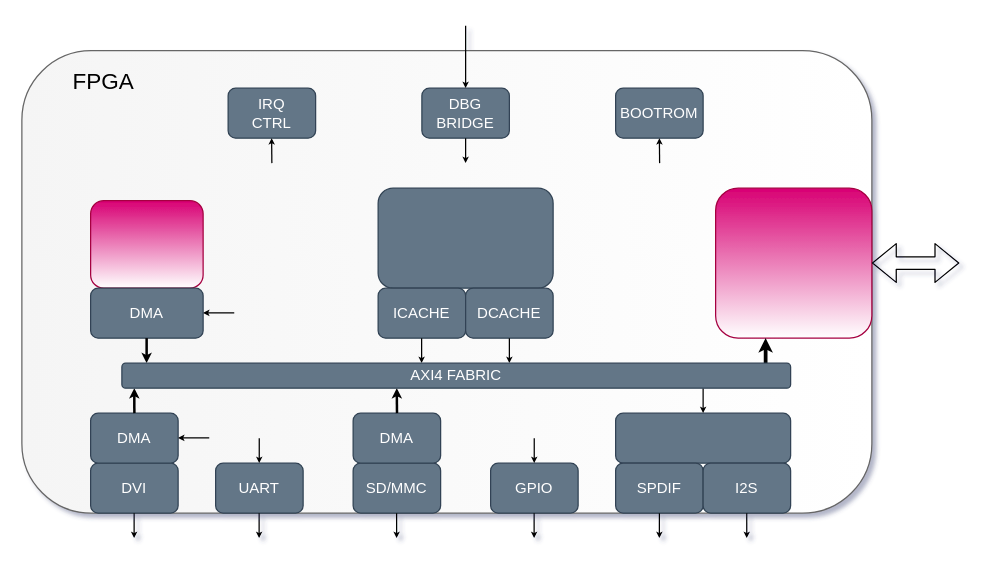
This 989x573 diagram has some shape labels left out. The shapes that lost their labels are listed below. From the top down, each one's box as (x1, y1, x2, y2) in pixels, then its label:
(89, 199, 203, 288): JPEG DECODER
(377, 187, 553, 288): RISC-V RV32IM
(714, 187, 872, 338): DDR3 MC
(614, 412, 791, 463): AUDIO CTRL
